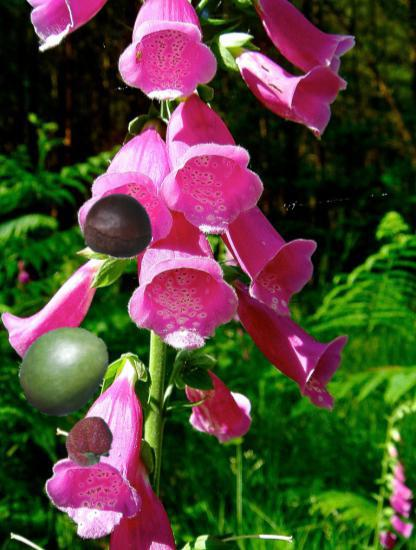Chestnut: (84, 190, 155, 261)
Mango: (17, 322, 113, 418)
Strawberry: (64, 416, 118, 470)
